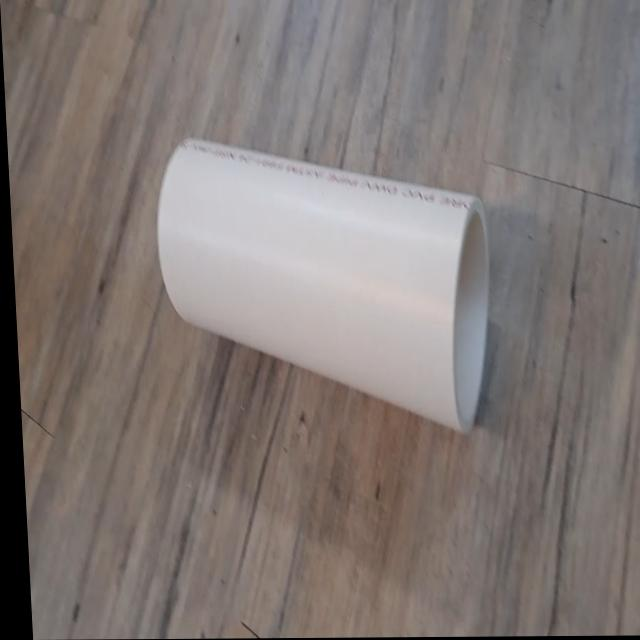CORAL: (142, 111, 506, 445)
